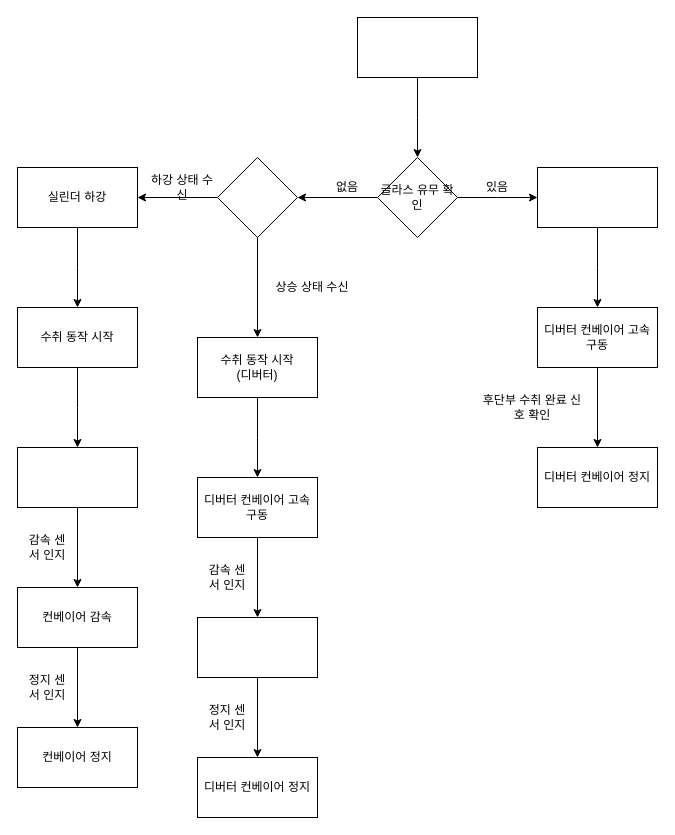
Image size: 675x835. Some labels were removed from this diagram. The shapes that lost their labels are listed below. From the top down, each one's centre as x and y in pixels, then its label:
At point (417, 47): "자동운전 시작".
At point (257, 197): "글라스 투입 방향 확인".
At point (597, 197): "배출 시작 (디버터 상승)".
At point (77, 477): "컨베이어 고속 구동".
At point (257, 647): "디버터 컨베이어 감속".
